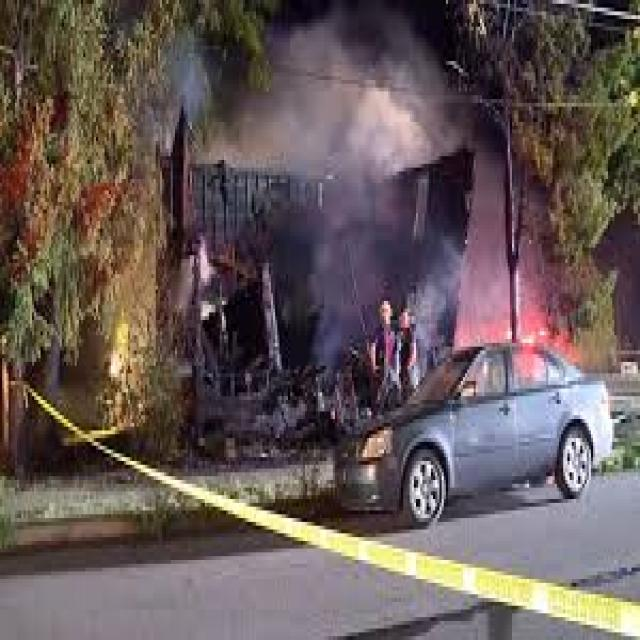smoke: (228, 31, 444, 179), (467, 148, 548, 346), (158, 53, 211, 145)
